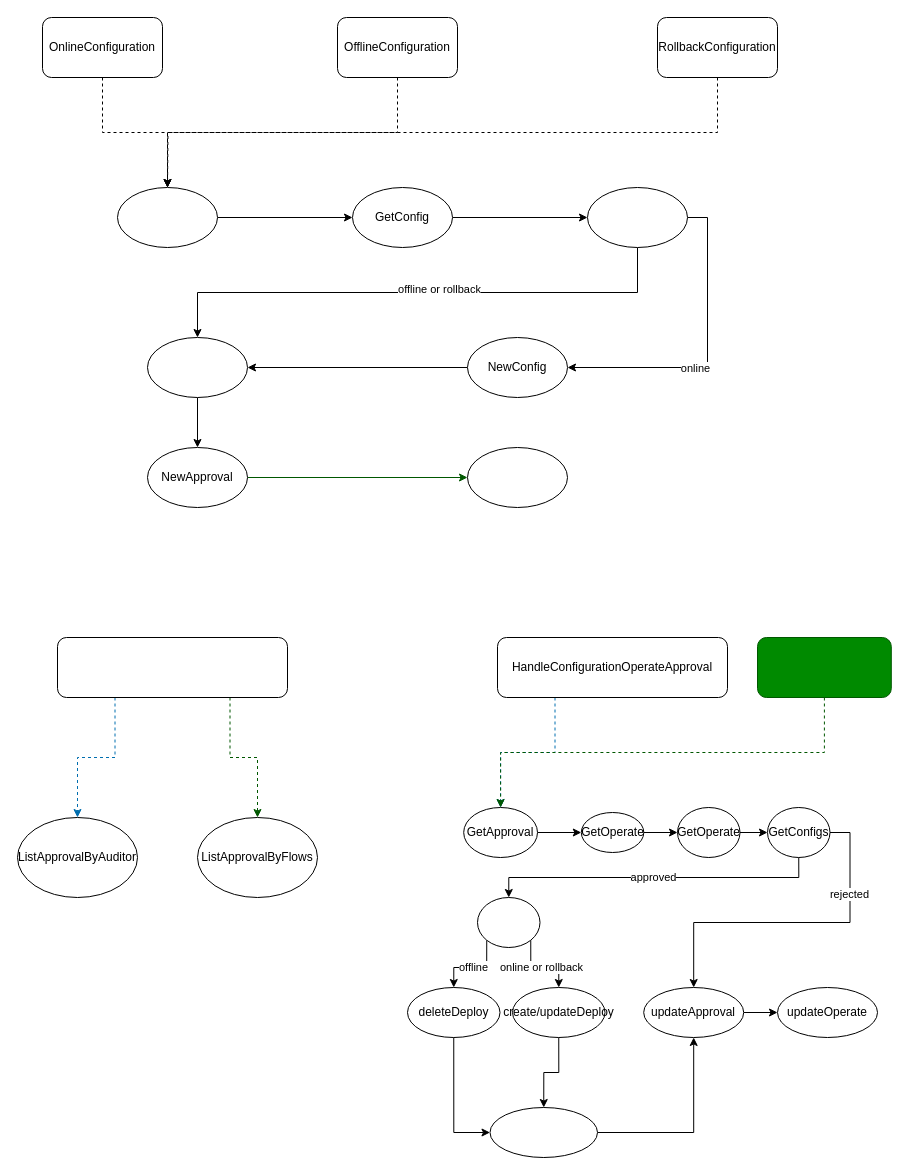
Some shapes in this 909 by 1175 pixel diagram are drawn without their labels. The shapes that lost their labels are listed below. From the top down, each one's centre as x and y in pixels, then its label:
At pixel 167 217: "CheckConfig".
At pixel 637 217: "GetLastOperate".
At pixel 197 367: "NewOperate".
At pixel 517 477: "NewFlow".
At pixel 172 667: "GetConfigurationOperateApprovalList".
At pixel 823 667: "MagicFlow Event".
At pixel 508 922: "action".
At pixel 543 1132: "updateConfig".
